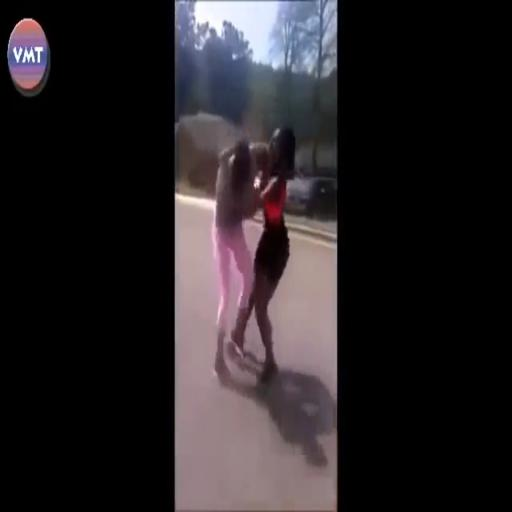violencia: (203, 118, 308, 390)
